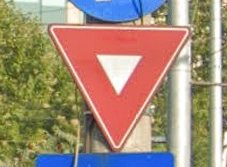cedeaza: (48, 23, 190, 151)
